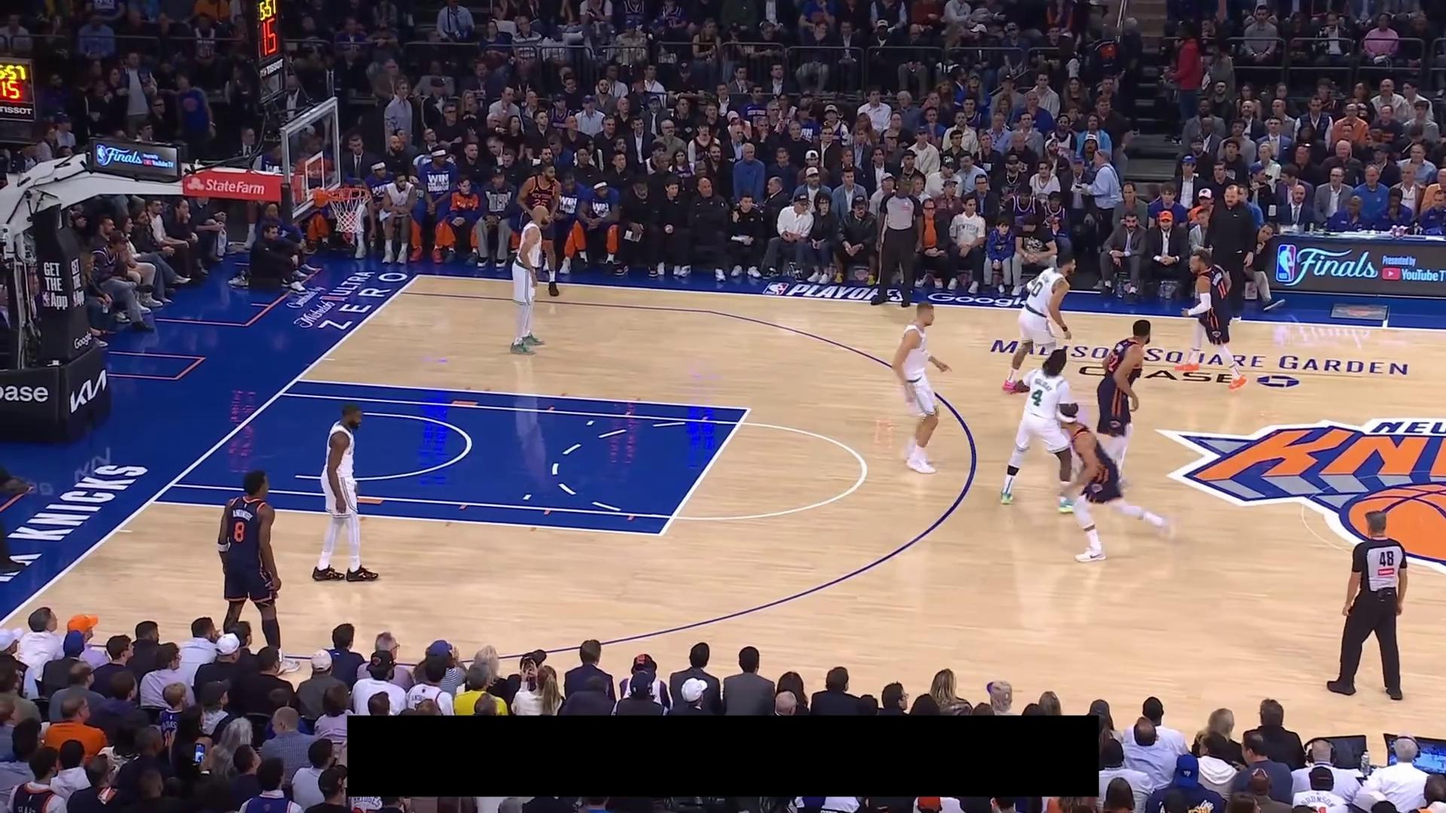number: (233, 520, 246, 543), (1031, 388, 1044, 406), (1030, 281, 1044, 297), (1217, 280, 1227, 299), (532, 198, 549, 208)
player: (1056, 401, 1179, 563), (215, 467, 304, 674), (310, 400, 382, 584), (999, 348, 1078, 514), (1088, 318, 1154, 492), (1173, 248, 1249, 391), (892, 300, 953, 477), (1002, 251, 1076, 394), (509, 202, 554, 356), (514, 161, 563, 298)
referee: (1326, 509, 1409, 701), (871, 175, 926, 308), (0, 399, 26, 576)
rim: (327, 187, 371, 201)
